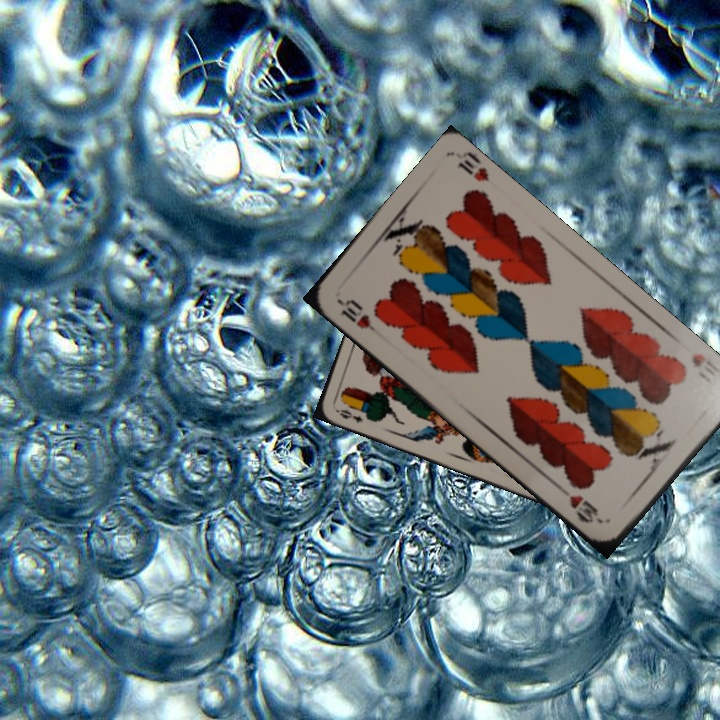EO: (331, 405, 366, 426)
H10: (333, 295, 383, 338), (687, 349, 715, 386)
